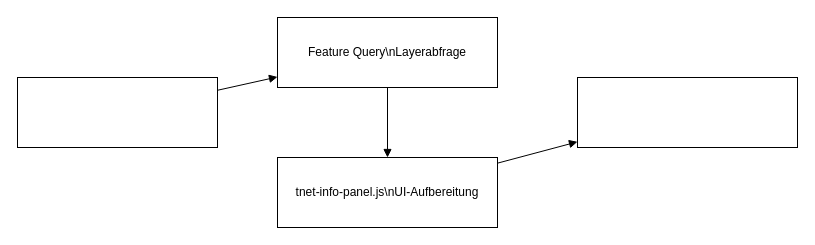
Image size: 815x245. Some labels were removed from this diagram. The shapes that lost their labels are listed below. From the top down, each one's centre as x and y in pixels, then its label:
At (x=117, y=112): "Map Klick\nPicking aktiv".
At (x=687, y=112): "Info Panel\nDesktop/Mobile".
